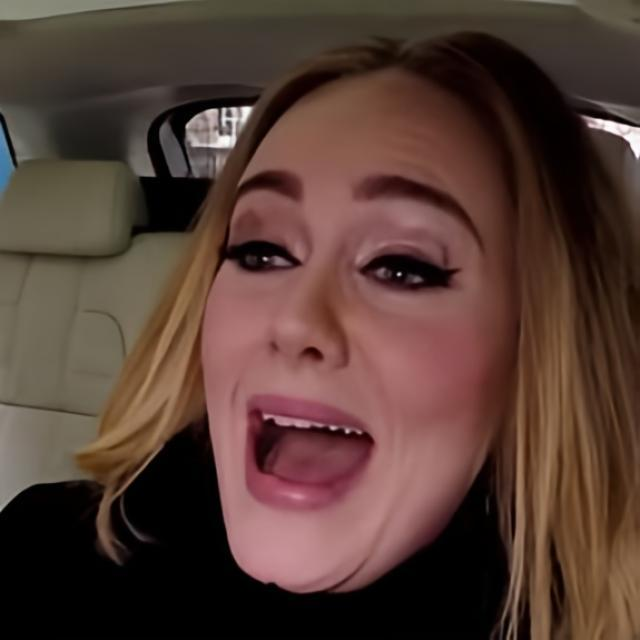surprise: (196, 66, 513, 596)
